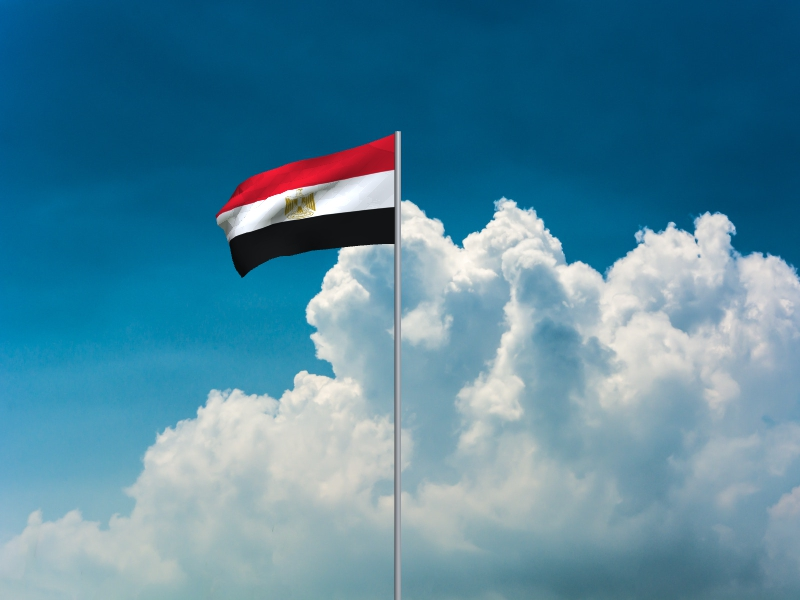eg: (215, 135, 395, 280)
